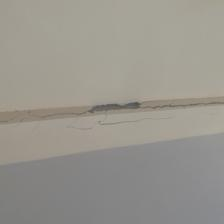Medium: (19, 91, 203, 132)
